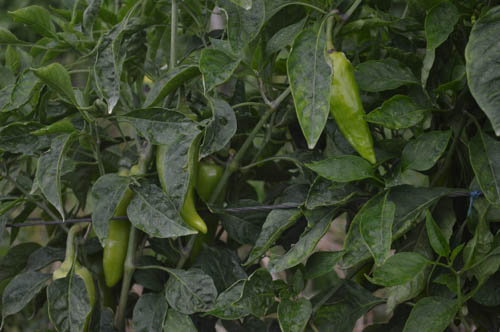ChiliPepper: (325, 53, 373, 162), (103, 200, 133, 279), (165, 172, 205, 231), (192, 165, 225, 201)
